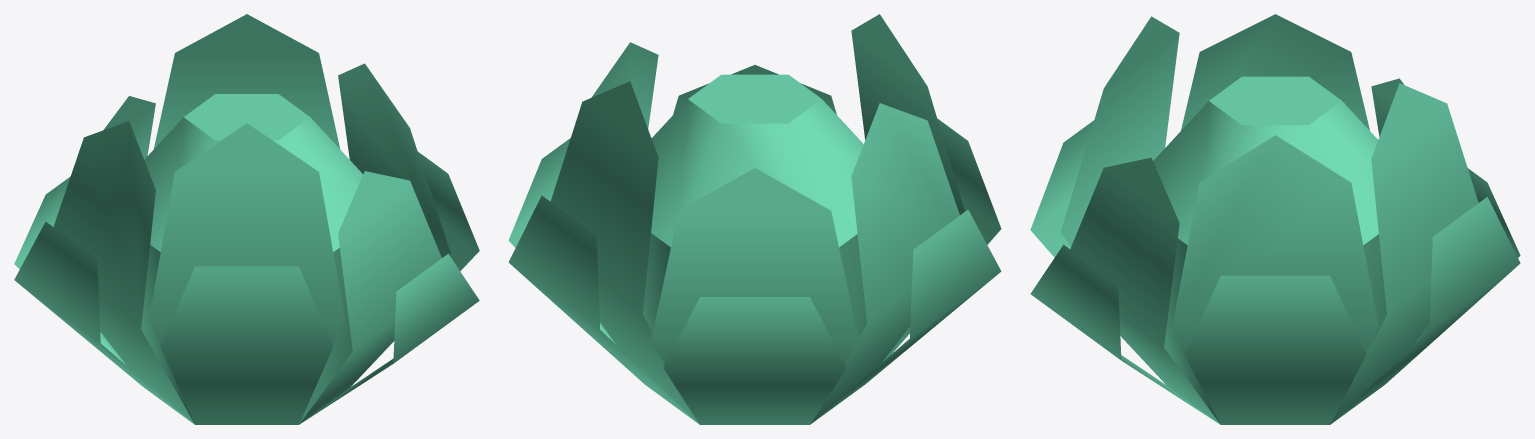
Rendered from cabbage.dae.
3 renders of one model, left to right at view 1: azimuth 30°, elevation 25°; view 2: azimuth 150°, elevation 25°; view 3: azimuth 270°, elevation 25°, orthographic. The views are drawn at different scales.
Visible parts, largest first — view 1: cabbage; view 2: cabbage; view 3: cabbage.
Part boxes in pixels (left/top/right/bottom): cabbage: left=14, top=14, right=479, bottom=424; cabbage: left=508, top=14, right=1001, bottom=424; cabbage: left=1030, top=14, right=1520, bottom=424.
Bounding box in the file's own units: 0.3794 × 0.3074 × 0.4036.
